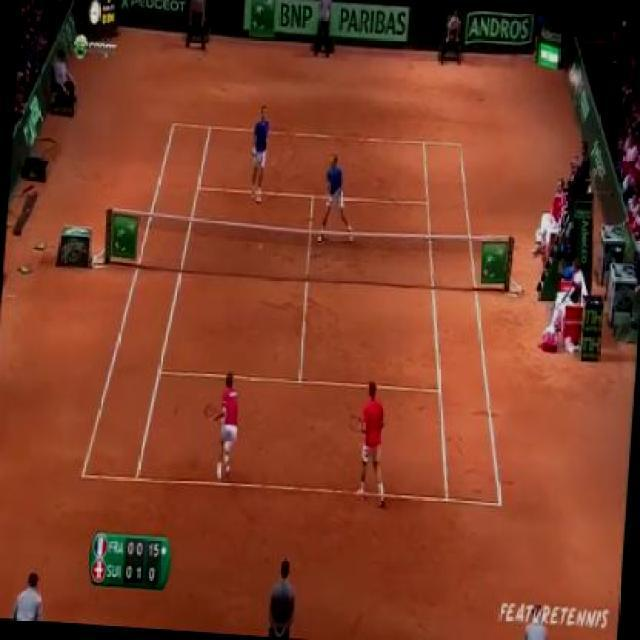non-fight: (344, 373, 393, 515), (198, 362, 244, 486), (314, 146, 360, 243), (244, 100, 274, 208)
